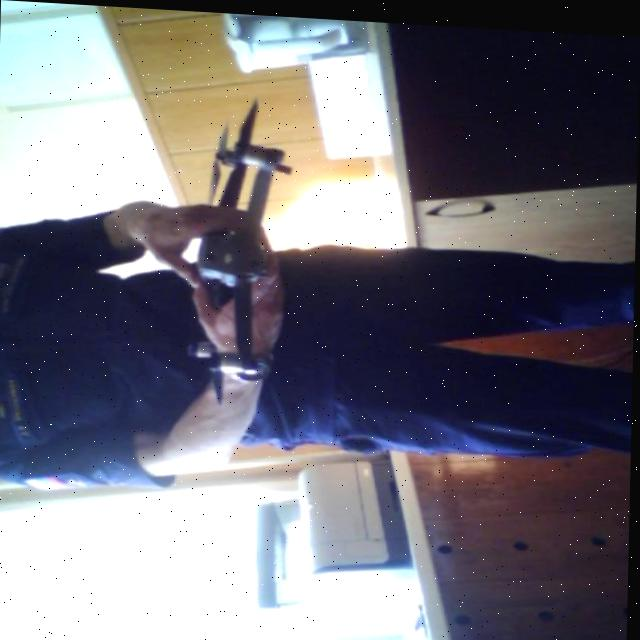drone: (172, 98, 295, 418)
